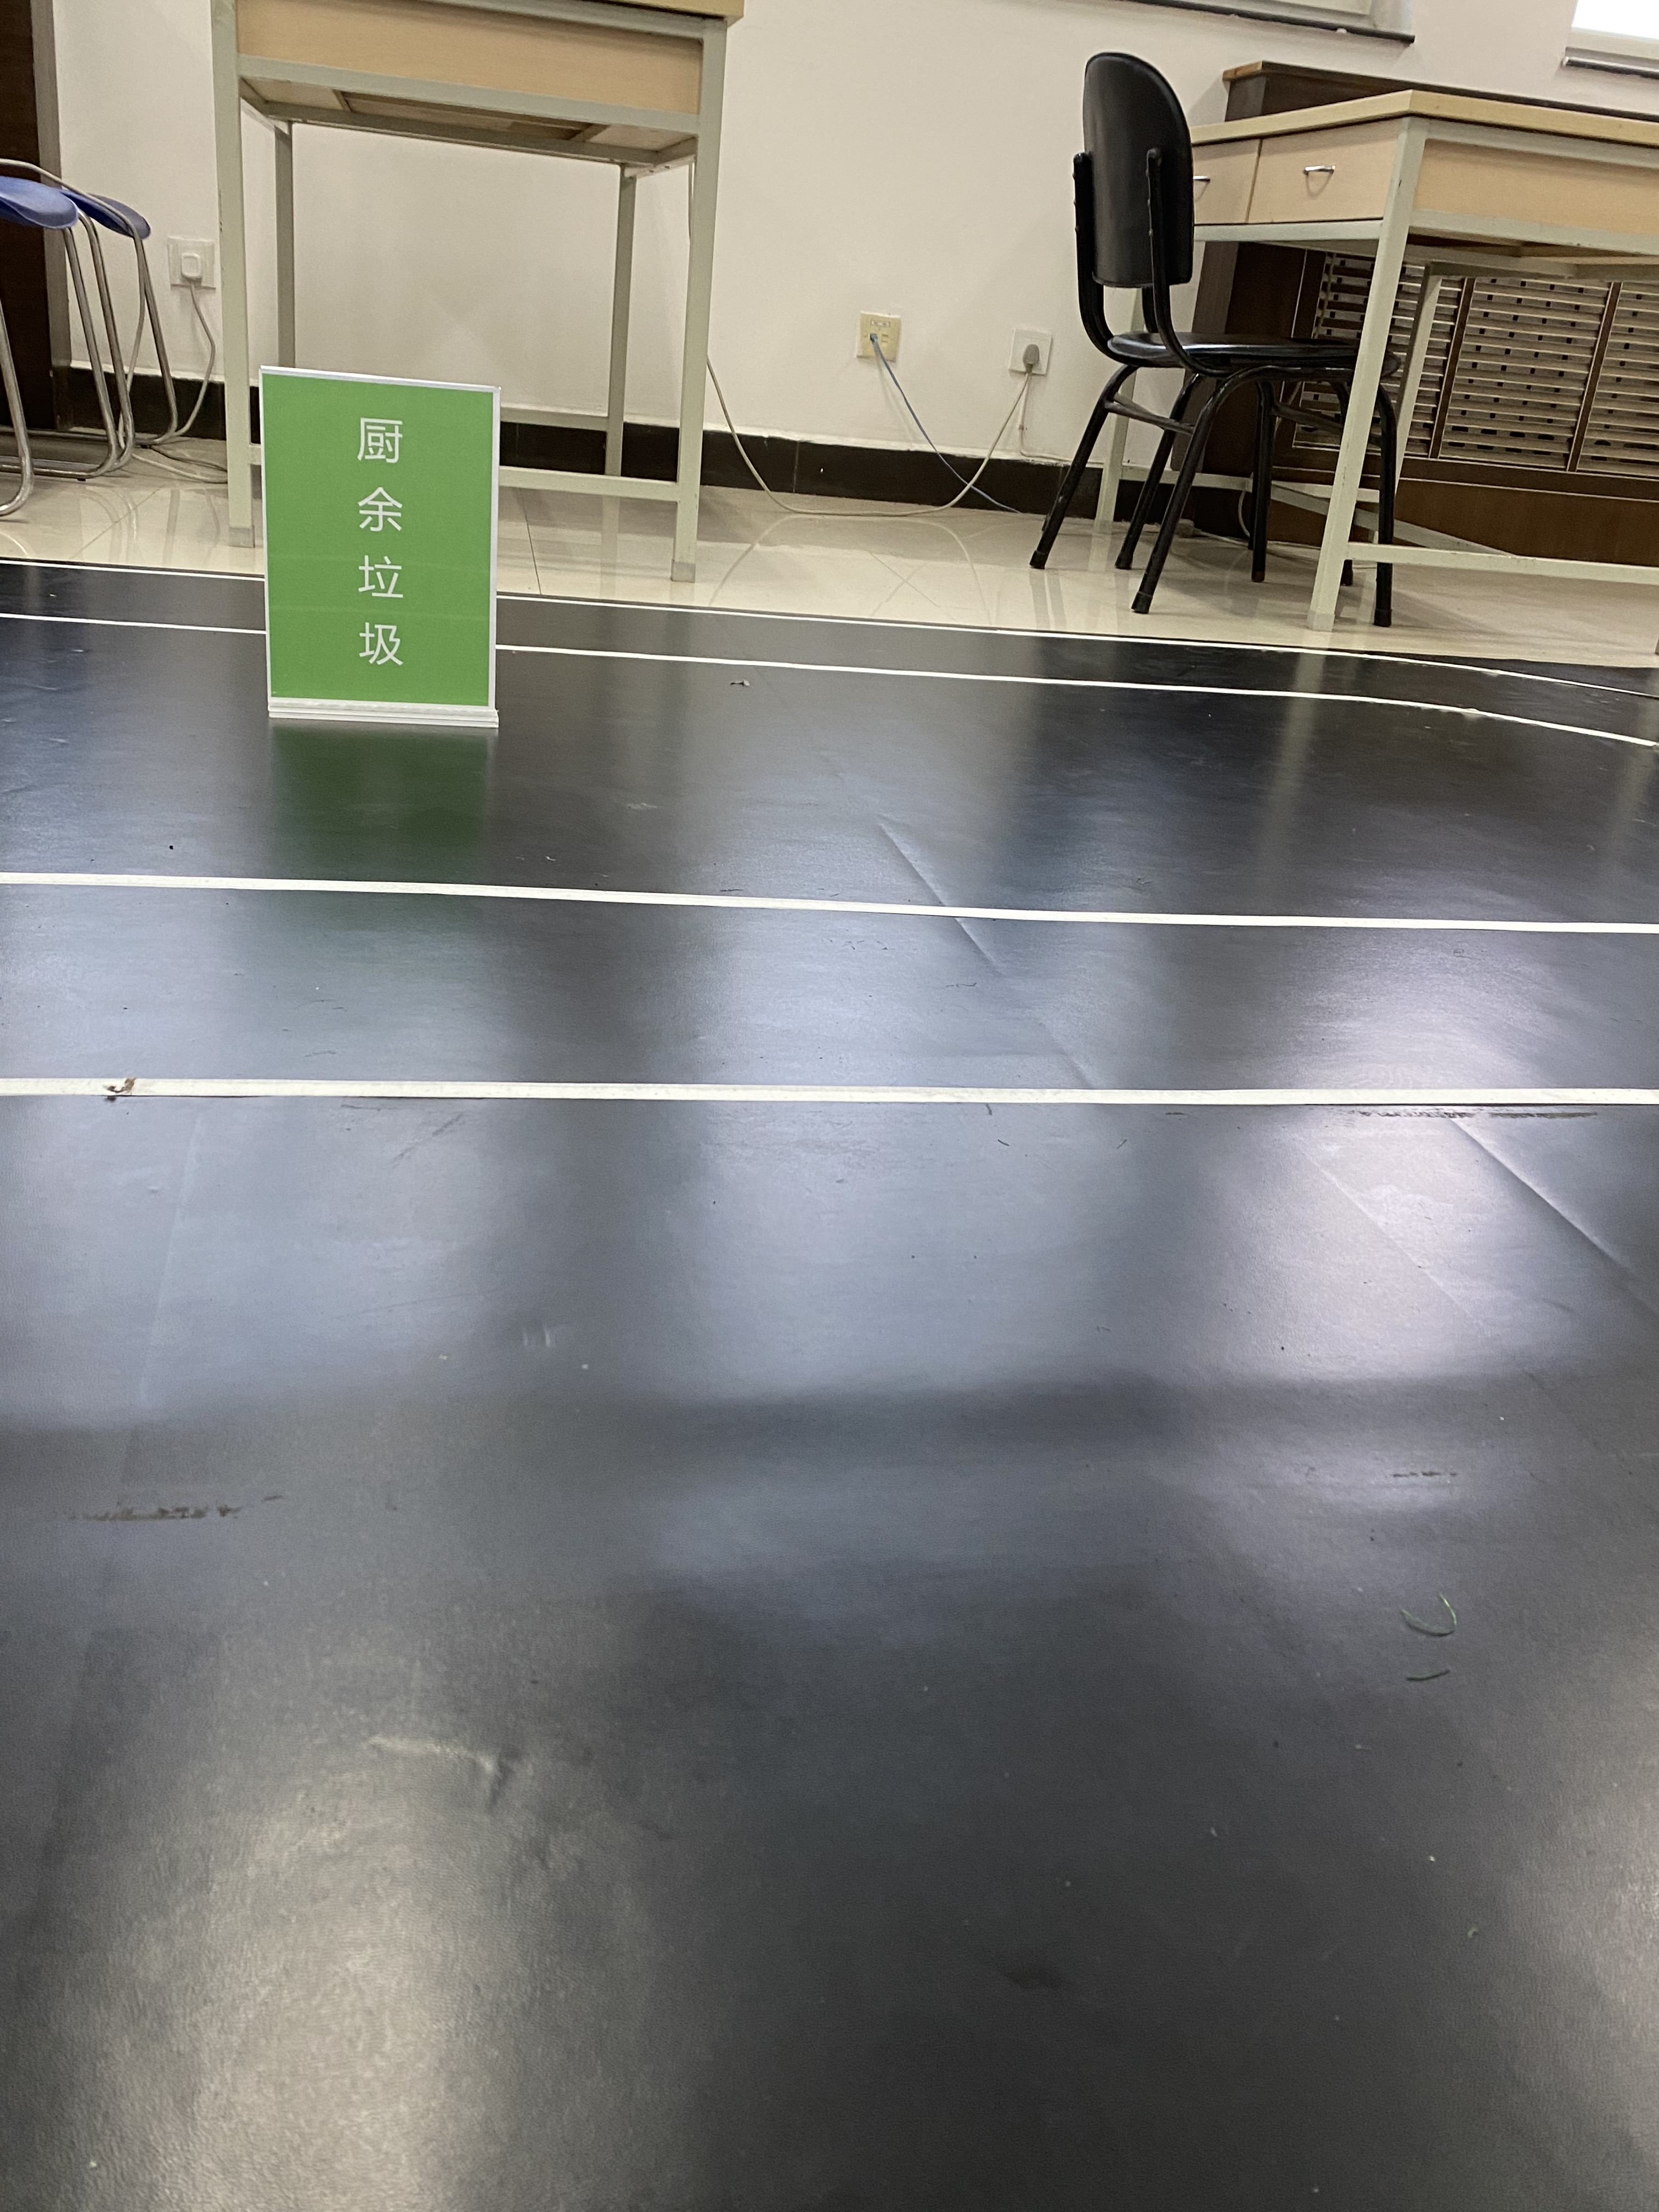green: (268, 383, 483, 695)
